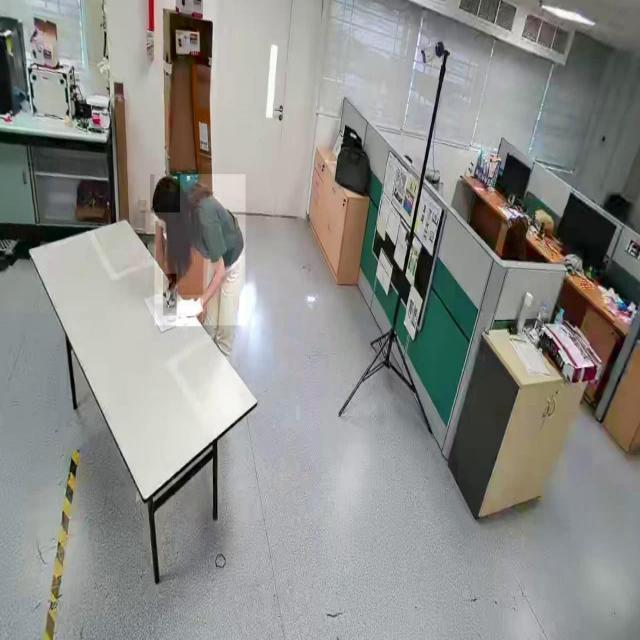gloves: (176, 295, 204, 327), (163, 274, 177, 316)
